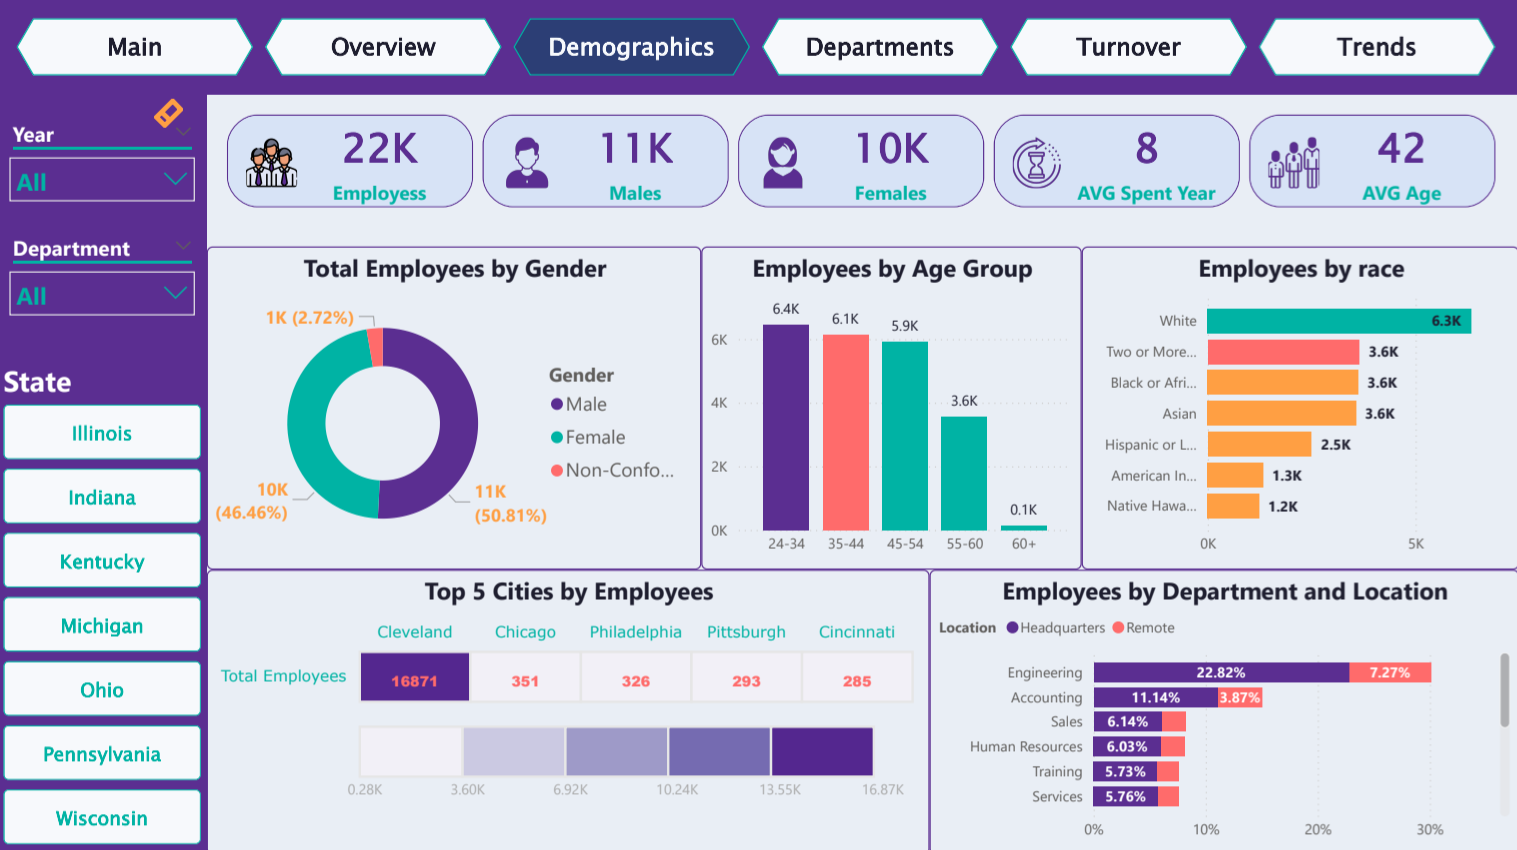

The dashboard page shown, as its layout file describes it:
{"tool":"powerbi","page":{"name":" Demographics","canvas":[1280,720],"ordinal":2},"visuals":[{"type":"group","id":"g1","title":"Group 1","box":[0,0,1280,80],"z":0},{"type":"shape","box":[0,0,1280,80],"z":0,"group":"g1"},{"type":"shape","box":[0,0,1280,80],"z":0,"group":"g3"},{"type":"pageNavigator","box":[16,16,1248,48],"z":1000,"group":"g1"},{"type":"pageNavigator","box":[16,16,1248,48],"z":1000,"group":"g3"},{"type":"group","id":"g2","title":"Group 3","box":[0,64,176,640],"z":1000},{"type":"cardVisual","fields":{"Data":["_Measures.Total_Emp","_Measures.Total_Males","_Measures.Total_Females","_Measures.AVG_Spend_Year","_Measures.AVG_Age"]},"box":[176,80,1104,112],"z":2000},{"type":"clusteredColumnChart","fields":{"Category":["Human Resources.Age Group"],"Y":["_Measures.Total_Emp"]},"box":[592,208,320,272],"z":3000},{"type":"group","id":"g3","title":"Group 1","box":[0,0,1280,80],"z":4000,"group":"g7"},{"type":"barChart","fields":{"Category":["Human Resources.race"],"Y":["_Measures.Total_Emp"]},"box":[912,208,368,272],"z":4000},{"type":"shape","box":[0,64,176,640],"z":5000,"group":"g2"},{"type":"shape","box":[0,80,176,640],"z":5000,"group":"g6"},{"type":"barChart","fields":{"Category":["Human Resources.department"],"Y":["_Measures.Total_Emp"],"Series":["Human Resources.location"]},"box":[784,480,496,240],"z":5000},{"type":"group","id":"g4","title":"Group 2","box":[0,96,176,608],"z":6000,"group":"g2"},{"type":"group","id":"g5","title":"Group 2","box":[0,96,176,624],"z":6000,"group":"g6"},{"type":"TableHeatMap1443716069308","title":"Top 5 Cities by Employees","fields":{"Category":["Human Resources.location_city"],"Y":["_Measures.Total_Emp"]},"box":[176,480,608,240],"z":6000},{"type":"donutChart","fields":{"Category":["Human Resources.gender"],"Y":["_Measures.Total_Emp"]},"box":[176,208,416,272],"z":7000},{"type":"slicer","fields":{"Values":["calender_table.Year"]},"box":[0,96,176,96],"z":8000,"group":"g5"},{"type":"slicer","fields":{"Values":["Human Resources.gender"]},"box":[0,192,176,80],"z":8000},{"type":"actionButton","box":[128,64,48,32],"z":8001,"group":"g2"},{"type":"actionButton","box":[128,80,48,32],"z":8001,"group":"g6"},{"type":"group","id":"g6","title":"Group 3","box":[0,80,176,640],"z":8002,"group":"g7"},{"type":"group","id":"g7","title":"Group 4","box":[0,0,1280,720],"z":9000},{"type":"slicer","fields":{"Values":["Human Resources.department"]},"box":[0,96,176,80],"z":9000,"group":"g4"},{"type":"slicer","fields":{"Values":["Human Resources.department"]},"box":[0,192,176,96],"z":9000,"group":"g5"},{"type":"advancedSlicerVisual","title":"State","fields":{"Values":["Human Resources.location_state"]},"box":[0,304,176,400],"z":10000,"group":"g4"},{"type":"advancedSlicerVisual","title":"State","fields":{"Values":["Human Resources.location_state"]},"box":[0,304,176,416],"z":10000,"group":"g5"}]}

Visuals, with their boxes in screenshot pixels (x1, y1, x2, y2), scaled from the page's 1280x720 canvas onto the 1517x850 screenshot:
"Group 1" group: <box>0,0,1516,94</box>
shape: <box>0,0,1516,94</box>
shape: <box>0,0,1516,94</box>
pageNavigator: <box>19,19,1498,76</box>
pageNavigator: <box>19,19,1498,76</box>
"Group 3" group: <box>0,76,209,831</box>
cardVisual - _Measures.Total_Emp x _Measures.Total_Males: <box>209,94,1516,227</box>
clusteredColumnChart - Human Resources.Age Group x _Measures.Total_Emp: <box>702,246,1081,567</box>
"Group 1" group: <box>0,0,1516,94</box>
barChart - Human Resources.race x _Measures.Total_Emp: <box>1081,246,1516,567</box>
shape: <box>0,76,209,831</box>
shape: <box>0,94,209,849</box>
barChart - Human Resources.department x _Measures.Total_Emp: <box>929,567,1516,849</box>
"Group 2" group: <box>0,113,209,831</box>
"Group 2" group: <box>0,113,209,849</box>
"Top 5 Cities by Employees" TableHeatMap1443716069308: <box>209,567,929,849</box>
donutChart - Human Resources.gender x _Measures.Total_Emp: <box>209,246,702,567</box>
slicer - calender_table.Year: <box>0,113,209,227</box>
slicer - Human Resources.gender: <box>0,227,209,321</box>
actionButton: <box>152,76,209,113</box>
actionButton: <box>152,94,209,132</box>
"Group 3" group: <box>0,94,209,849</box>
"Group 4" group: <box>0,0,1516,849</box>
slicer - Human Resources.department: <box>0,113,209,208</box>
slicer - Human Resources.department: <box>0,227,209,340</box>
"State" advancedSlicerVisual: <box>0,359,209,831</box>
"State" advancedSlicerVisual: <box>0,359,209,849</box>
